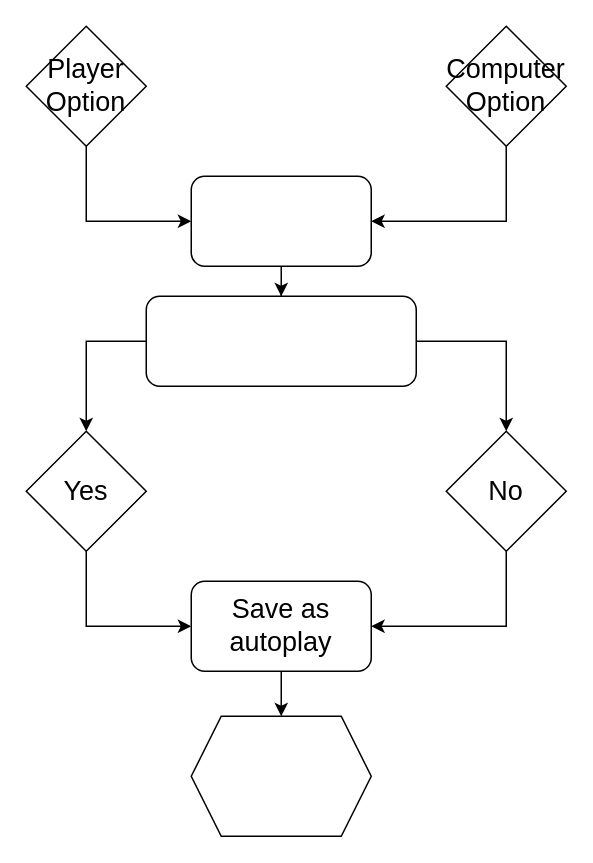
Some shapes in this 593 by 863 pixel diagram are drawn without their labels. Each missing label, with the centre of its shape:
Ask whether they want the games to autoplay: the point at 280,340
RETURN gamemode, autoplay: the point at 280,775
Save Value as gamemode: the point at 280,220
